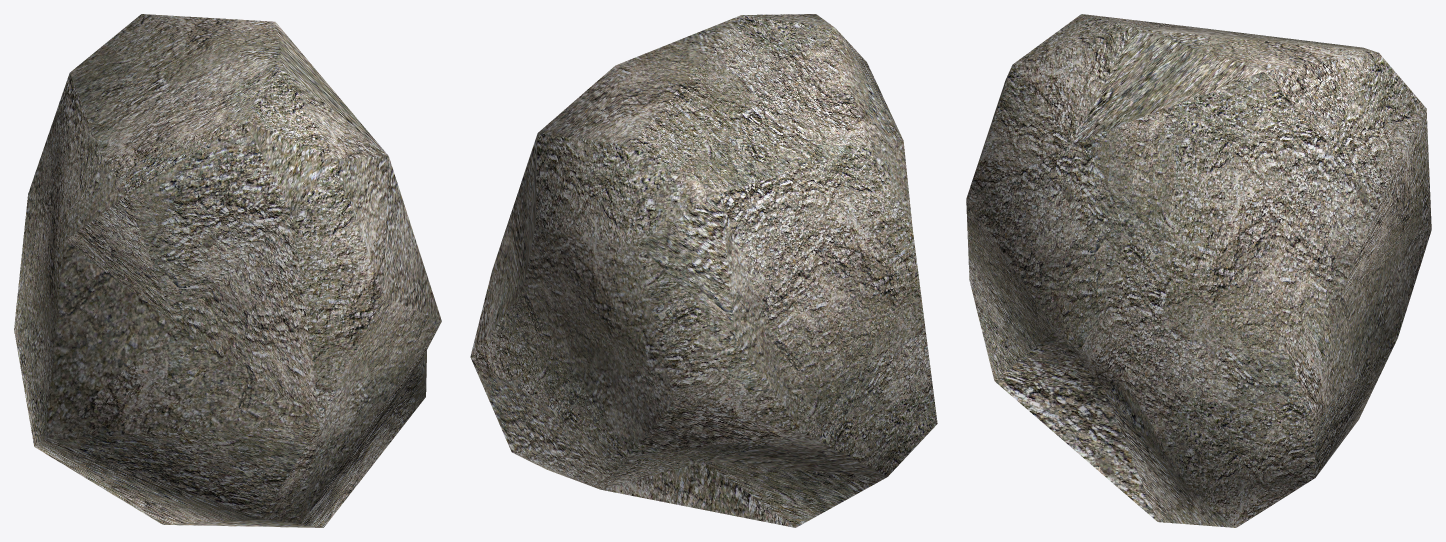
Rendered from boulder_2.dae.
The picture shows the model from 3 angles, left to right: view 1: azimuth 30°, elevation 25°; view 2: azimuth 150°, elevation 25°; view 3: azimuth 270°, elevation 25°; orthographic projection. The views are drawn at different scales.
Visible parts, largest first — view 1: bouldercubic64; view 2: bouldercubic64; view 3: bouldercubic64.
Boxes of the visible parts, bbox=[...] form: bouldercubic64: bbox=[14, 14, 441, 527]; bouldercubic64: bbox=[470, 14, 937, 527]; bouldercubic64: bbox=[966, 14, 1431, 527].
Bounding box in the file's own units: 1.89 × 2 × 2.22.
Materials: 1 (1 with a texture image).
